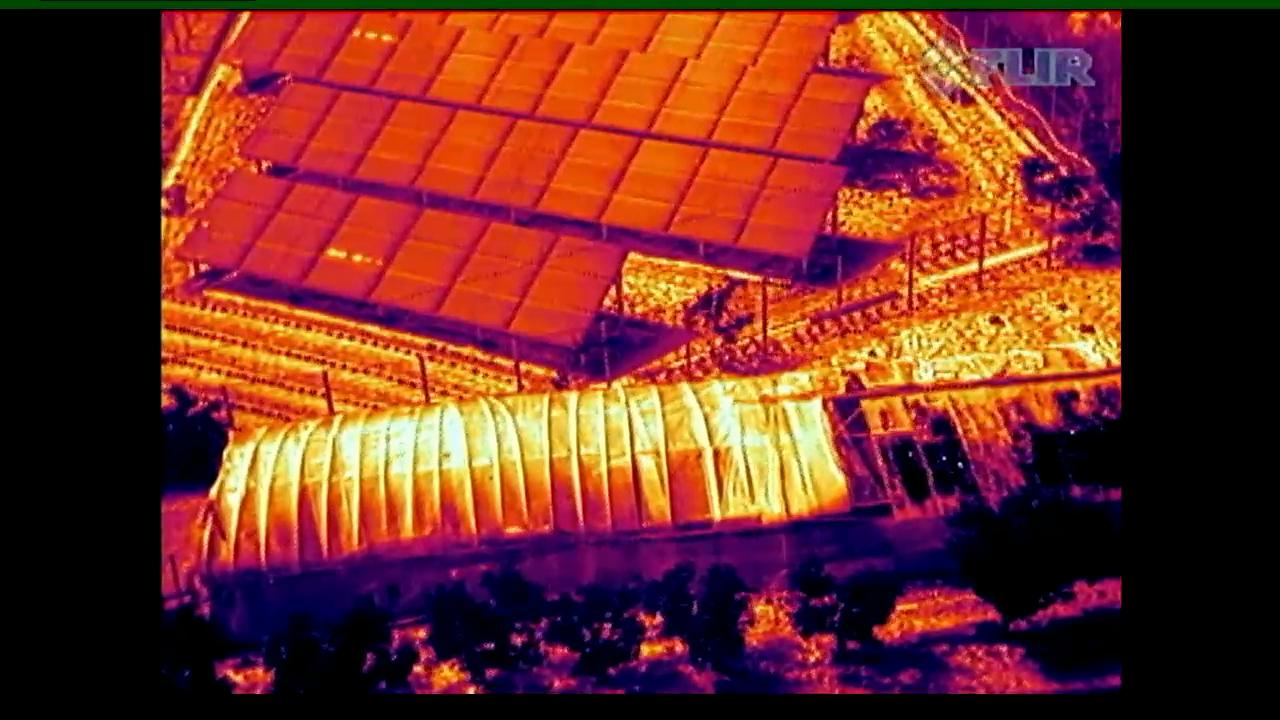hotspot: (297, 196, 418, 300), (322, 13, 410, 84)
